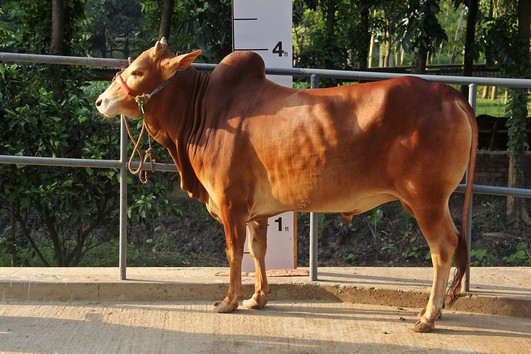cow: (85, 31, 479, 336)
